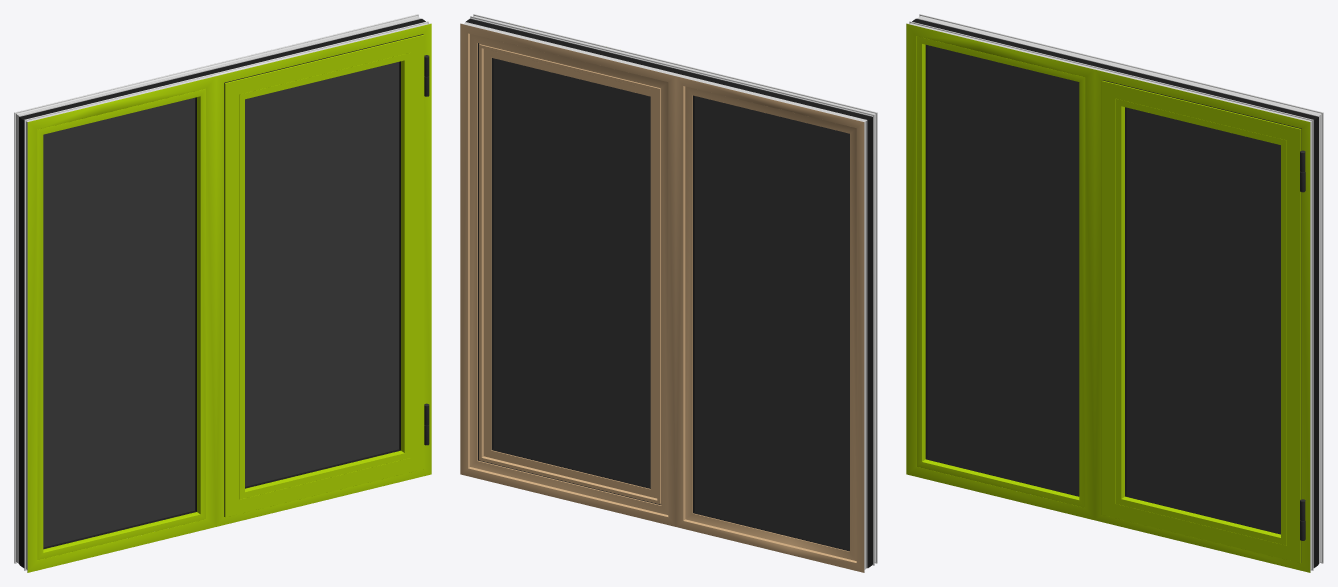
The model's file is 85_1_door.fbx.
3 views of the same model, side by side, from view 1: azimuth 30°, elevation 25°; view 2: azimuth 150°, elevation 25°; view 3: azimuth 330°, elevation 25° (orthographic).
Visible parts, largest first — view 1: SM_extra_85_004, SM_Door_Frame_85_R_014, SM_Window_Frame_1_door_85_001, SM_Door_Frame_85_R_015, SM_extra_85_006, SM_Window_Frame_1_door_85_002, SM_Door_Frame_85_R_018, SM_extra_85_009; view 2: SM_extra_85_004, SM_Door_Frame_85_R_014, SM_Window_Frame_1_door_85_001, SM_Door_Frame_85_R_015, SM_Window_Frame_1_door_85_002, SM_Door_Frame_85_R_018, SM_extra_85_009, SM_Window_Frame_1_door_85_006; view 3: SM_extra_85_004, SM_Door_Frame_85_R_014, SM_Window_Frame_1_door_85_001, SM_Door_Frame_85_R_015, SM_extra_85_006, SM_Window_Frame_1_door_85_002, SM_Door_Frame_85_R_018, SM_extra_85_009.
Part boxes in pixels (left/top/right/bottom): SM_extra_85_004: left=43, top=97, right=195, bottom=547; SM_Door_Frame_85_R_014: left=245, top=62, right=399, bottom=486; SM_Window_Frame_1_door_85_001: left=14, top=14, right=431, bottom=572; SM_Door_Frame_85_R_015: left=225, top=34, right=424, bottom=517; SM_extra_85_006: left=37, top=89, right=206, bottom=560; SM_Window_Frame_1_door_85_002: left=19, top=19, right=425, bottom=567; SM_Door_Frame_85_R_018: left=224, top=34, right=423, bottom=516; SM_extra_85_009: left=43, top=97, right=196, bottom=549; SM_extra_85_004: left=695, top=96, right=849, bottom=549; SM_Door_Frame_85_R_014: left=493, top=58, right=650, bottom=486; SM_Window_Frame_1_door_85_001: left=460, top=14, right=877, bottom=572; SM_Door_Frame_85_R_015: left=479, top=43, right=661, bottom=504; SM_Window_Frame_1_door_85_002: left=466, top=19, right=872, bottom=567; SM_Door_Frame_85_R_018: left=491, top=58, right=650, bottom=488; SM_extra_85_009: left=693, top=95, right=849, bottom=551; SM_Window_Frame_1_door_85_006: left=478, top=43, right=661, bottom=505; SM_extra_85_004: left=927, top=45, right=1079, bottom=494; SM_Door_Frame_85_R_014: left=1126, top=107, right=1280, bottom=532; SM_Window_Frame_1_door_85_001: left=906, top=14, right=1323, bottom=572; SM_Door_Frame_85_R_015: left=1101, top=80, right=1301, bottom=563; SM_extra_85_006: left=916, top=36, right=1085, bottom=507; SM_Window_Frame_1_door_85_002: left=912, top=19, right=1318, bottom=567; SM_Door_Frame_85_R_018: left=1102, top=80, right=1301, bottom=562; SM_extra_85_009: left=925, top=45, right=1079, bottom=496.
Bounding box in the file's own units: 150 × 160 × 10.26.
